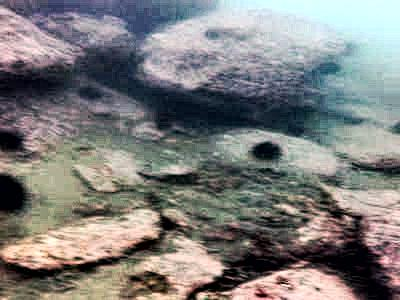urchin: (1, 170, 22, 215), (253, 141, 280, 161)
